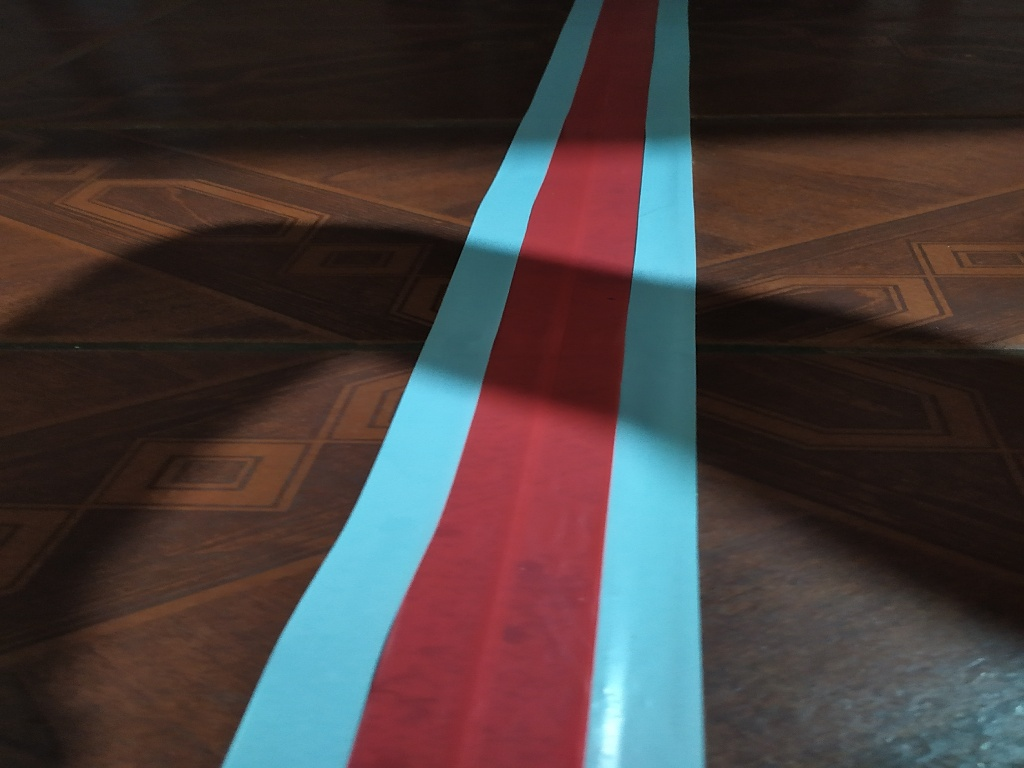reta: (268, 13, 697, 768)
